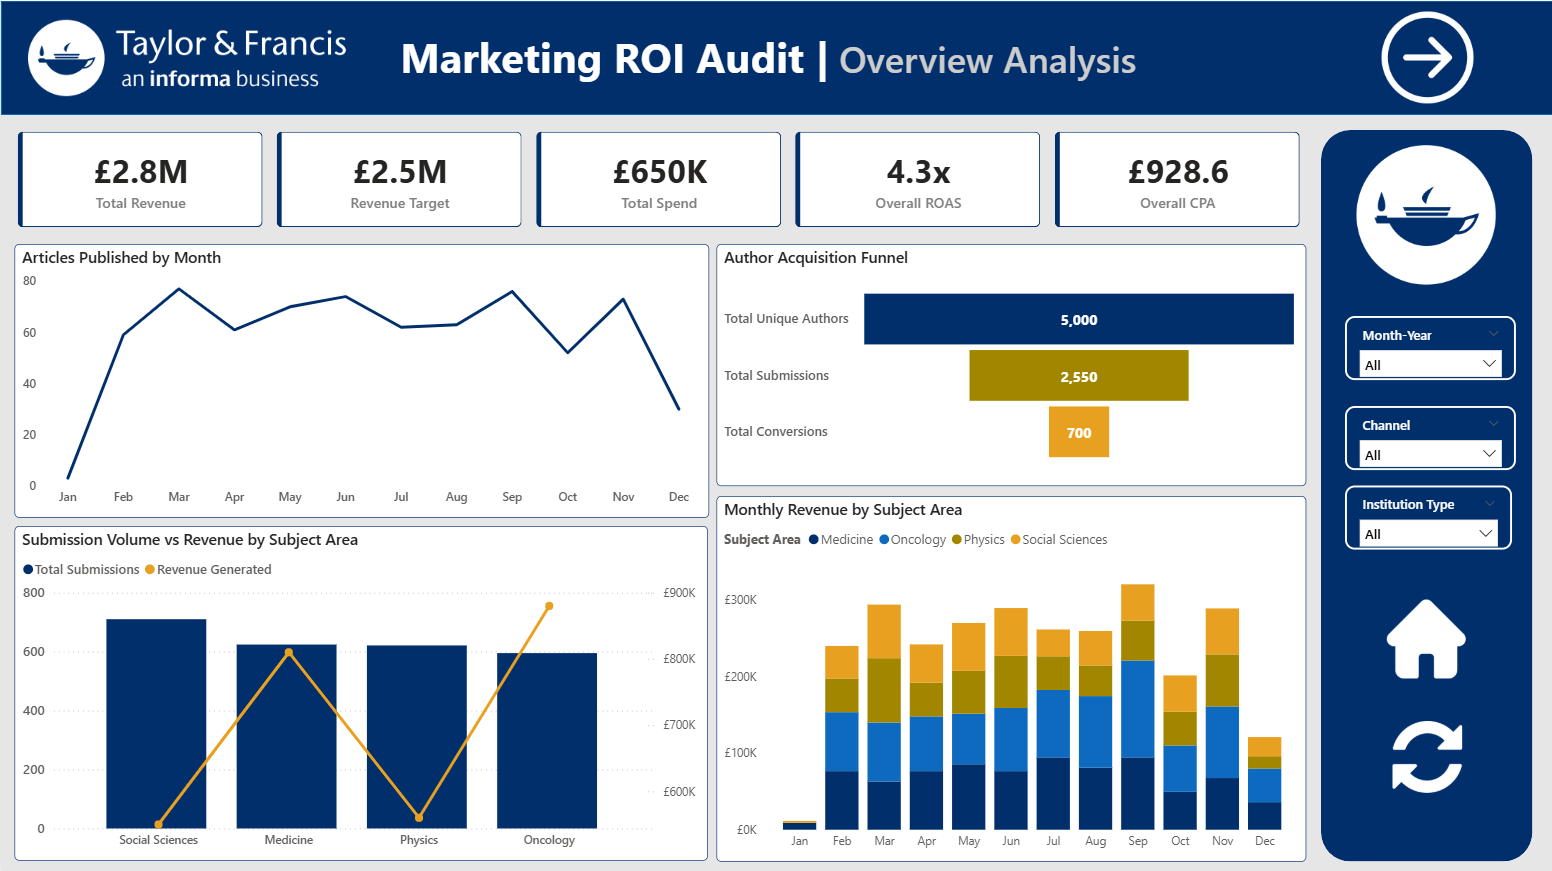

This screenshot's page, from the dashboard's own definition file:
{"tool":"powerbi","page":{"name":"Overview Analysis","canvas":[1600,900],"ordinal":0},"visuals":[{"type":"shape","box":[0,0,1599.4,117.4],"z":0},{"type":"shape","box":[1359,132.5,217.7,753.3],"z":1000},{"type":"image","box":[28.4,0,327.4,117.4],"z":2000},{"type":"slicer","fields":{"Values":["interactions.channel"]},"box":[1383.6,416.4,176,66.2],"z":3000},{"type":"slicer","fields":{"Values":["Date_Table.Month-Year"]},"box":[1383.6,323.7,176,66.2],"z":4000},{"type":"slicer","fields":{"Values":["authors.institution_type"]},"box":[1383.6,499.7,172.2,66.2],"z":5000},{"type":"cardVisual","fields":{"Data":["_Measures.Total Revenue","_Measures.Revenue Target","_Measures.Total Spend","_Measures.Overall ROAS","_Measures.Overall CPA"]},"box":[0,117.4,1359,132.5],"z":6000},{"type":"textbox","box":[406.9,22.7,785.5,71.9],"z":7000},{"type":"lineChart","title":"Articles Published by Month","fields":{"Y":["_Measures.Monthly Conversions"],"Category":["Date_Table.Month Name"]},"box":[13.2,249.8,715,282],"z":8000},{"type":"funnel","title":"Author Acquisition Funnel","fields":{"Y":["_Measures.Total Unique Authors","_Measures.Total Submissions","_Measures.Total Conversions"]},"box":[736.3,249.8,607.6,249],"z":9000},{"type":"lineClusteredColumnComboChart","title":"Submission Volume vs Revenue by Subject Area","fields":{"Category":["submissions.subject_area"],"Y2":["_Measures.Total Revenue"],"Y":["All Measures.Total Submissions"]},"box":[13.2,541.3,714,344.5],"z":10000},{"type":"columnChart","title":"Monthly Revenue by Subject Area","fields":{"Category":["Date_Table.Month Name"],"Y":["_Measures.Monthly Revenue"],"Series":["submissions.subject_area"]},"box":[736.3,509.2,607.6,376.7],"z":11000},{"type":"image","box":[1377.9,147.6,181.7,143.8],"z":12000},{"type":"image","box":[1412,742,113.6,73.8],"z":13000},{"type":"image","box":[1421.5,617,92.7,81.4],"z":14000},{"type":"image","box":[1400.6,11.4,136.3,94.6],"z":15000}]}

Visuals, with their boxes in screenshot pixels (x1, y1, x2, y2), scaled from the page's 1600x900 canvas onto the 1552x871 screenshot:
shape: region(0, 0, 1551, 114)
shape: region(1318, 128, 1529, 857)
image: region(28, 0, 345, 114)
slicer - interactions.channel: region(1342, 403, 1513, 467)
slicer - Date_Table.Month-Year: region(1342, 313, 1513, 377)
slicer - authors.institution_type: region(1342, 484, 1509, 548)
cardVisual - _Measures.Total Revenue x _Measures.Revenue Target: region(0, 114, 1318, 242)
textbox: region(395, 22, 1157, 92)
"Articles Published by Month" lineChart: region(13, 242, 706, 515)
"Author Acquisition Funnel" funnel: region(714, 242, 1304, 483)
"Submission Volume vs Revenue by Subject Area" lineClusteredColumnComboChart: region(13, 524, 705, 857)
"Monthly Revenue by Subject Area" columnChart: region(714, 493, 1304, 857)
image: region(1337, 143, 1513, 282)
image: region(1370, 718, 1480, 790)
image: region(1379, 597, 1469, 676)
image: region(1359, 11, 1491, 103)
